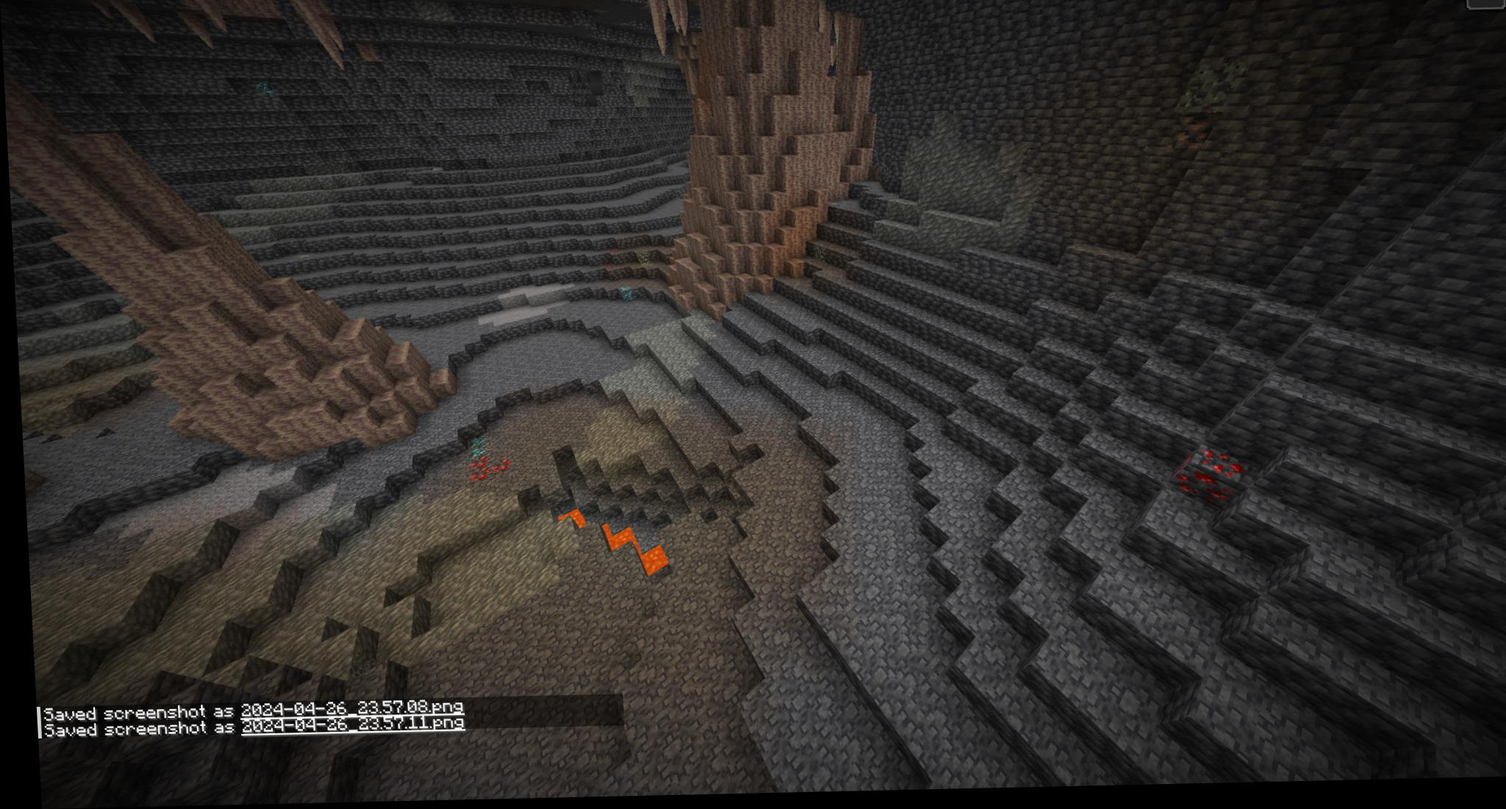diamond ore: (457, 437, 484, 462), (612, 288, 635, 302)
redstone ore: (1159, 446, 1245, 509), (463, 460, 506, 484)
